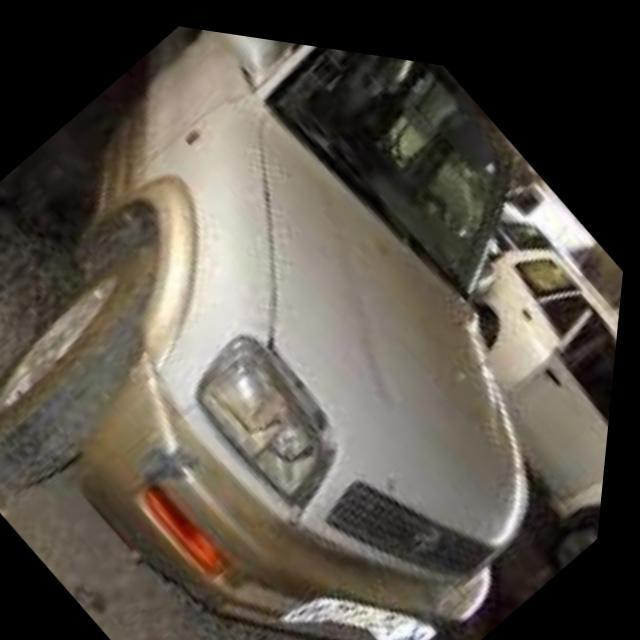dislocated part: (147, 421, 217, 486)
